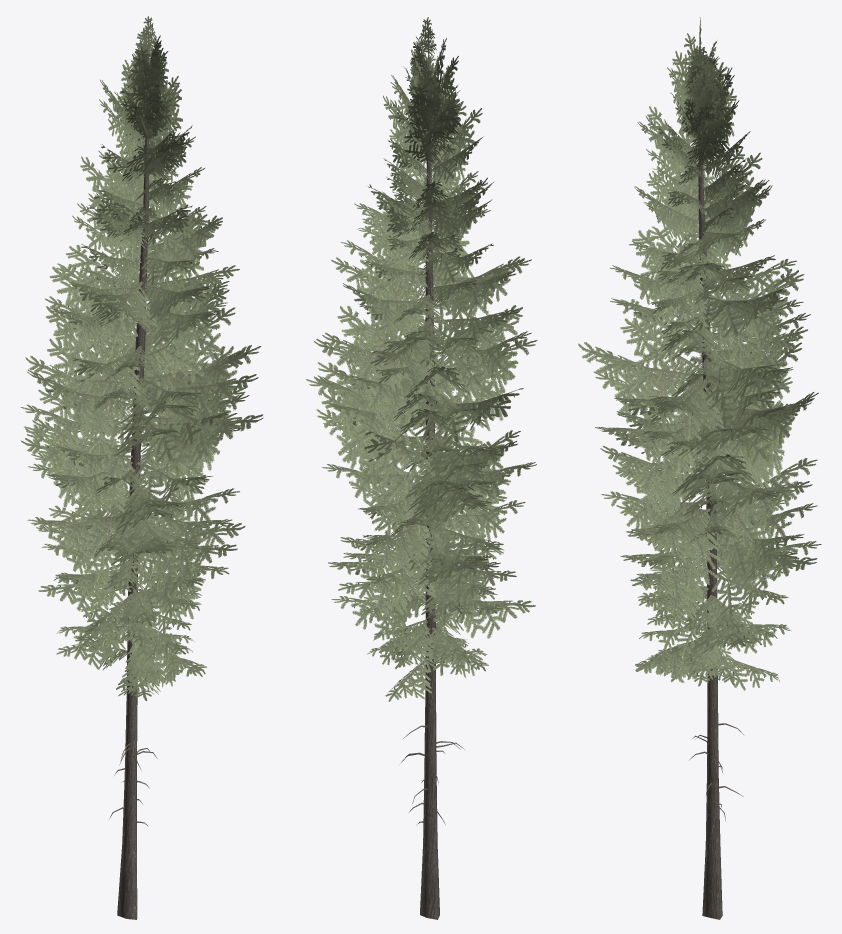
File: Pseudotsuga_Menziesii_Spring_Adult.glb
3 renders of one model, left to right at view 1: azimuth 30°, elevation 25°; view 2: azimuth 150°, elevation 25°; view 3: azimuth 270°, elevation 25°, orthographic.
Parts seen in each view (by area): view 1: Pseudotsuga_Menziesii_Spring_Adult__LOD3; view 2: Pseudotsuga_Menziesii_Spring_Adult__LOD3; view 3: Pseudotsuga_Menziesii_Spring_Adult__LOD3.
Boxes of the visible parts, left/top/right/bottom form: Pseudotsuga_Menziesii_Spring_Adult__LOD3: left=20, top=16, right=263, bottom=919; Pseudotsuga_Menziesii_Spring_Adult__LOD3: left=306, top=17, right=537, bottom=919; Pseudotsuga_Menziesii_Spring_Adult__LOD3: left=578, top=17, right=821, bottom=919.
Bounding box in the file's own units: 15.96 × 63.97 × 16.36.
Materials: 3 (3 with a texture image).
